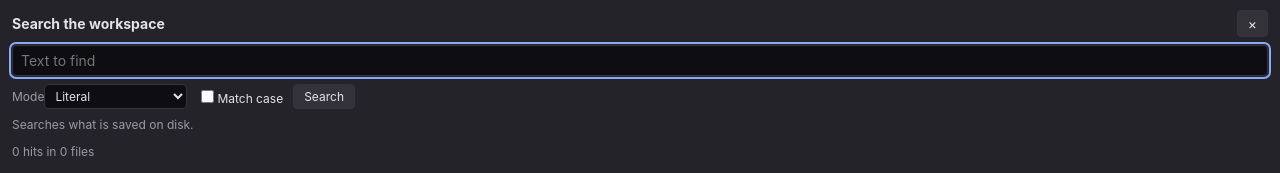
Test case: keeps words separate from literal and regex with no case-sensitive promise
Select "Words" in the dropdown at (116, 96), box [44,84,187,109]
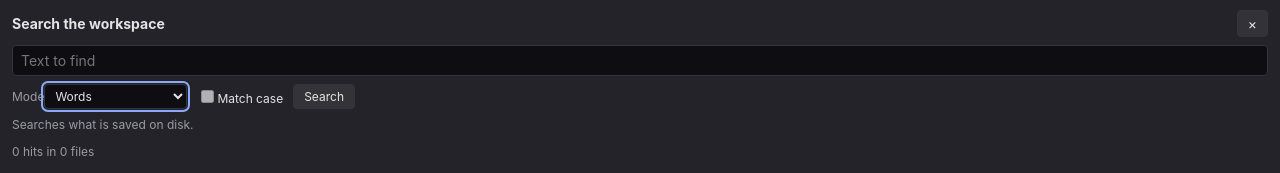
expect the checkbox is disabled: met, box [201,90,214,103]
Select "Regular expression" in the dropdown at (116, 96), box [44,84,187,109]
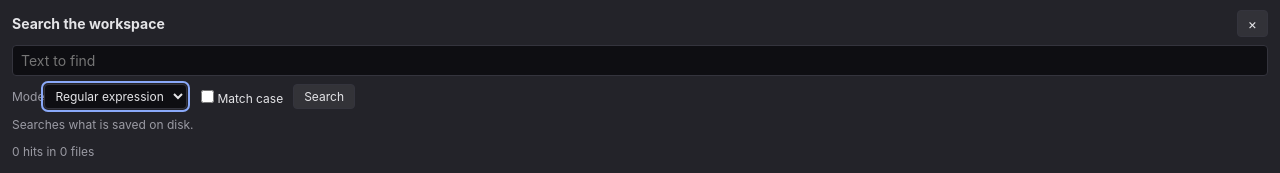
expect the checkbox is enabled: met, box [201,90,214,103]
